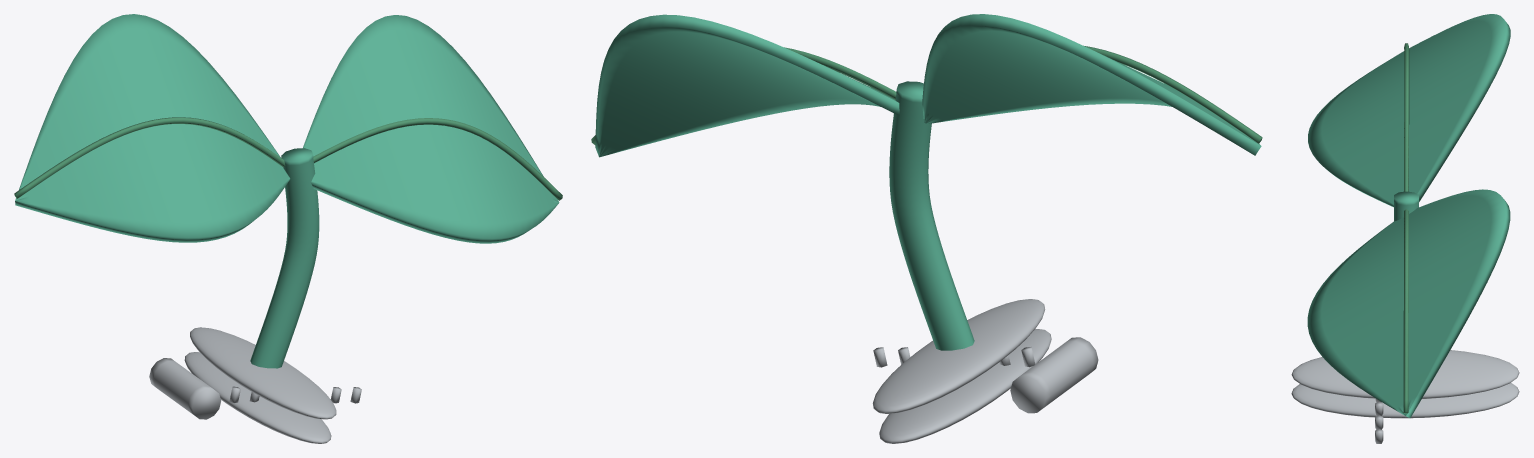
The model's file is Feminine-curls-pashmina250-sprout.glb.
The picture shows the model from 3 angles, left to right: view 1: azimuth 30°, elevation 25°; view 2: azimuth 150°, elevation 25°; view 3: azimuth 270°, elevation 25°; orthographic projection. The views are drawn at different scales.
Parts seen in each view (by area): view 1: 226 extra / Accessory / mint226, 226 extra / Sprout / clip silver235, 226 extra / Sprout / leaf vein235; view 2: 226 extra / Accessory / mint226, 226 extra / Sprout / clip silver235, 226 extra / Sprout / leaf vein235; view 3: 226 extra / Accessory / mint226, 226 extra / Sprout / clip silver235, 226 extra / Sprout / leaf vein235.
Boxes of the visible parts, box(x1,y1,x2,y2) form: 226 extra / Accessory / mint226: box(15, 14, 559, 368); 226 extra / Sprout / clip silver235: box(149, 327, 361, 443); 226 extra / Sprout / leaf vein235: box(14, 117, 562, 200); 226 extra / Accessory / mint226: box(595, 14, 1261, 350); 226 extra / Sprout / clip silver235: box(872, 299, 1098, 443); 226 extra / Sprout / leaf vein235: box(591, 45, 1262, 144); 226 extra / Accessory / mint226: box(1307, 14, 1510, 418); 226 extra / Sprout / clip silver235: box(1291, 350, 1519, 443); 226 extra / Sprout / leaf vein235: box(1403, 43, 1409, 413).
Size of the model in its own units: 0.2644 by 0.1739 by 0.104.
